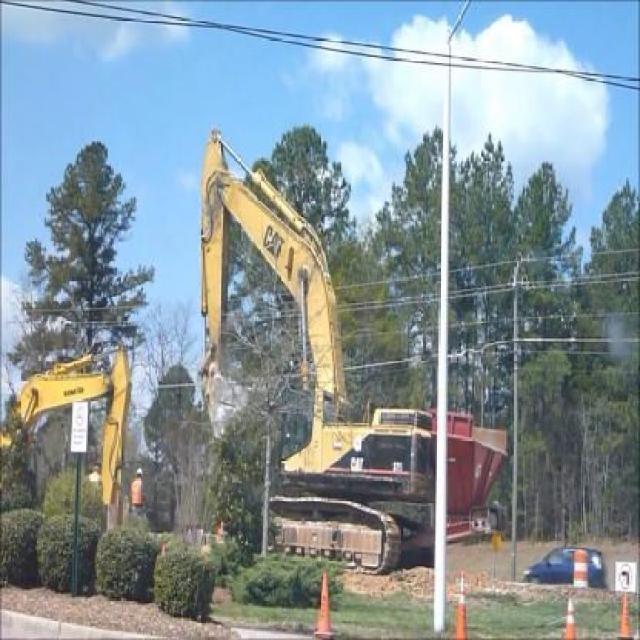excavator: (198, 124, 433, 578), (0, 339, 134, 506)
